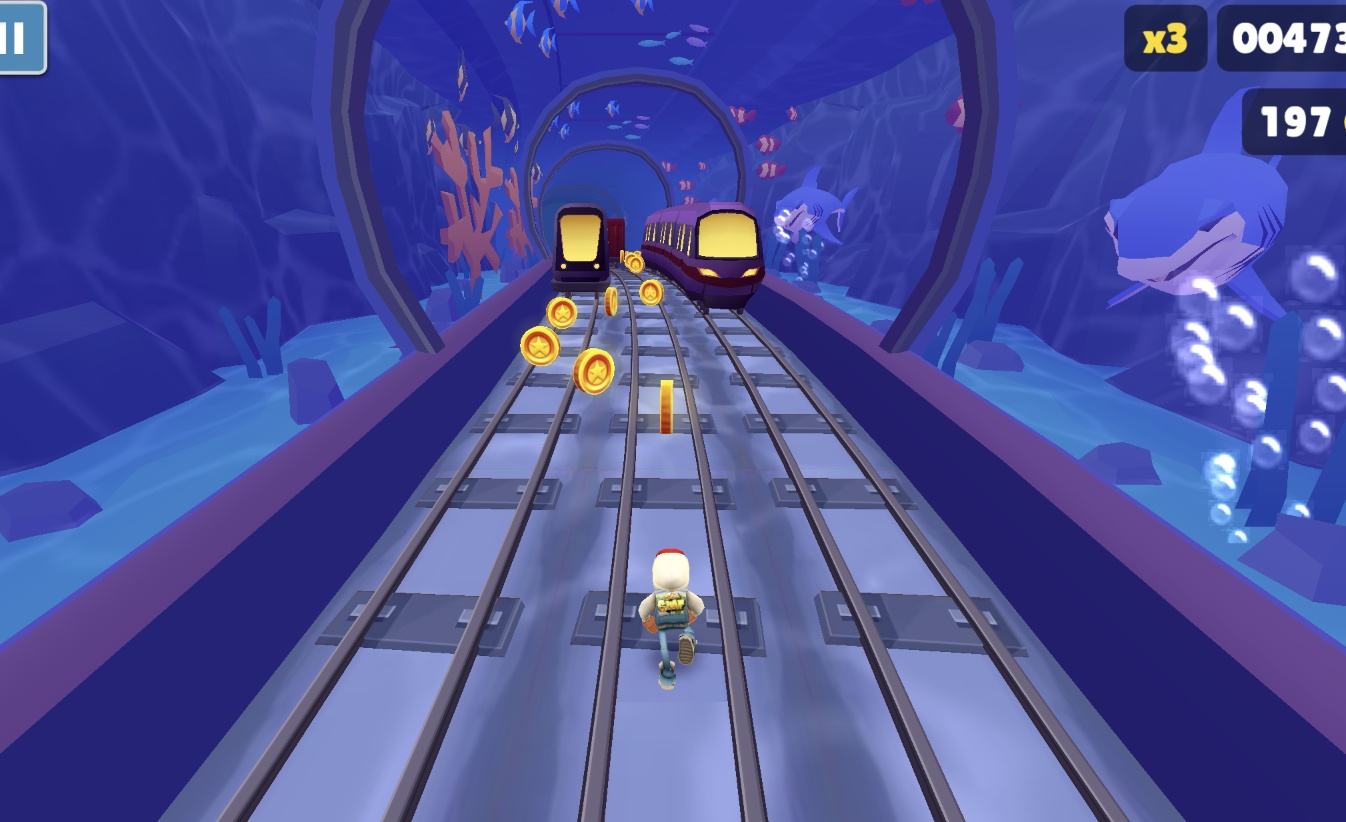train: (639, 201, 768, 313), (550, 204, 613, 295), (604, 217, 625, 266)
